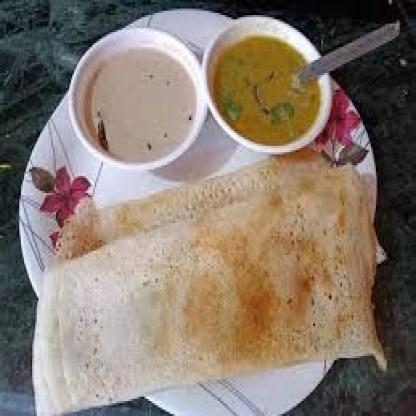dosa: (34, 163, 386, 416), (53, 148, 332, 264)
